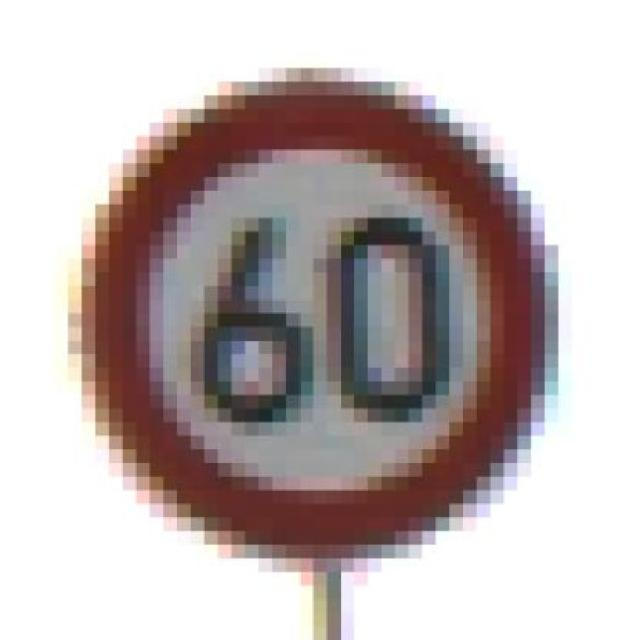forb_speed_over_60: (86, 88, 542, 552)
